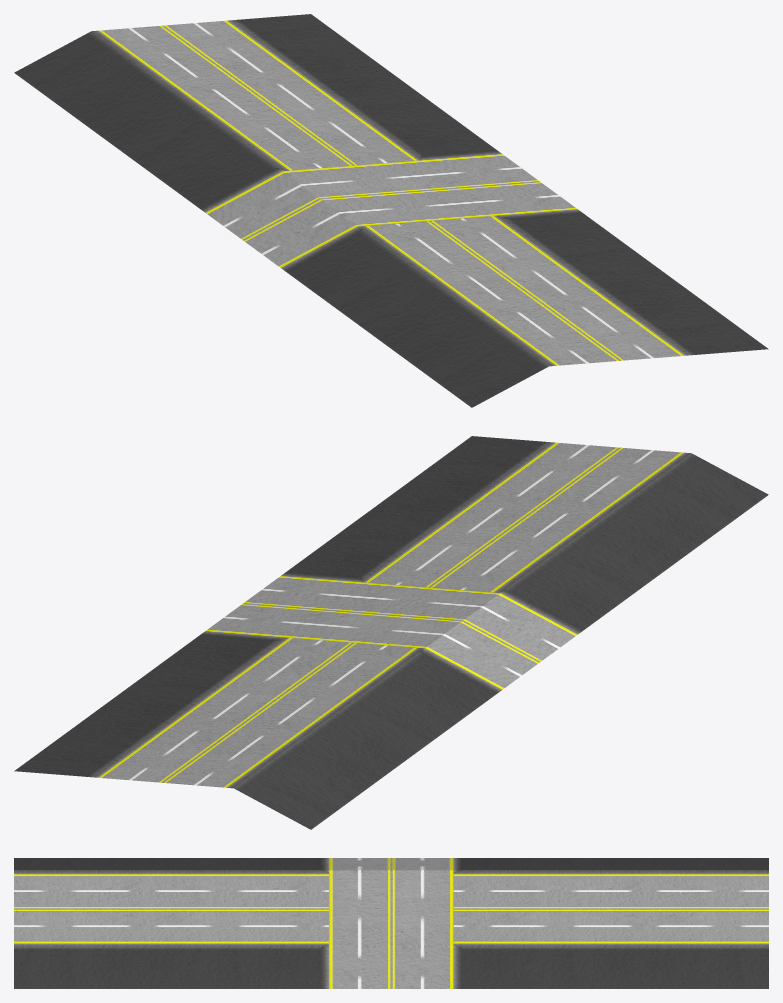
File: CaminoInterseccion.fbx
3 views of the same model, one above another, from view 1: azimuth 30°, elevation 25°; view 2: azimuth 150°, elevation 25°; view 3: azimuth 270°, elevation 25° (orthographic). The views are drawn at different scales.
Visible parts, largest first — view 1: Plane.001; view 2: Plane.001; view 3: Plane.001.
Boxes of the visible parts, bbox=[...] form: Plane.001: bbox=[14, 14, 768, 407]; Plane.001: bbox=[14, 436, 768, 829]; Plane.001: bbox=[14, 858, 768, 988].
Bounding box in the file's own units: 157401 × 18440 × 420189.
